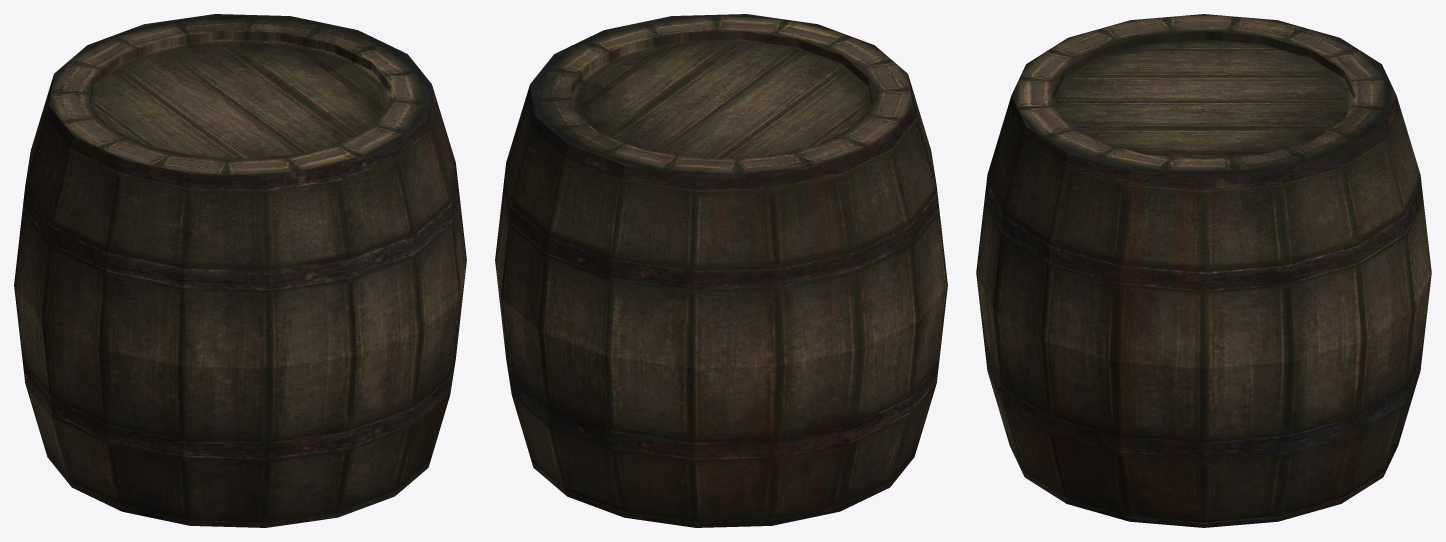
File: barril.fbx
3 views of the same model, side by side, from view 1: azimuth 30°, elevation 25°; view 2: azimuth 150°, elevation 25°; view 3: azimuth 270°, elevation 25° (orthographic).
Parts seen in each view (by area): view 1: Cylinder; view 2: Cylinder; view 3: Cylinder.
Boxes of the visible parts, x1,y1,x2,y2 form: Cylinder: (14,14,466,527); Cylinder: (495,14,947,527); Cylinder: (976,14,1431,527).
Bounding box in the file's own units: 268 × 227 × 268.
Materials: 1 (1 with a texture image).
